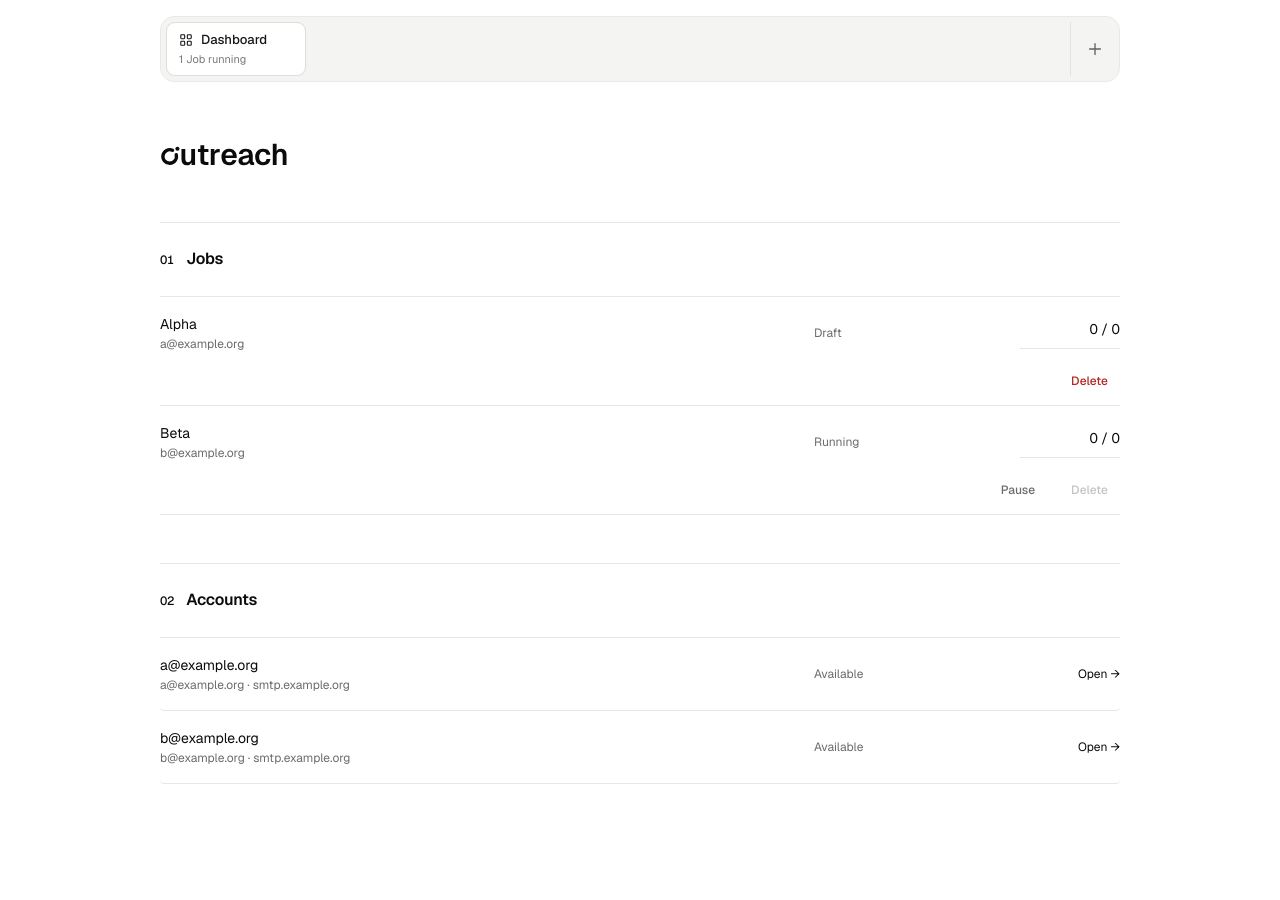
Test case: workspace › blocks running-job deletion and keeps a job when deletion fails
Expected: the button with aria-label "Delete job: Beta" is disabled, [1059,474,1120,506]
What coordinates should you click on to do the following:
click the button with aria-label "Delete job: Alpha"
I would click on:
 (1090, 381)
Its box is [1059,365,1120,397].
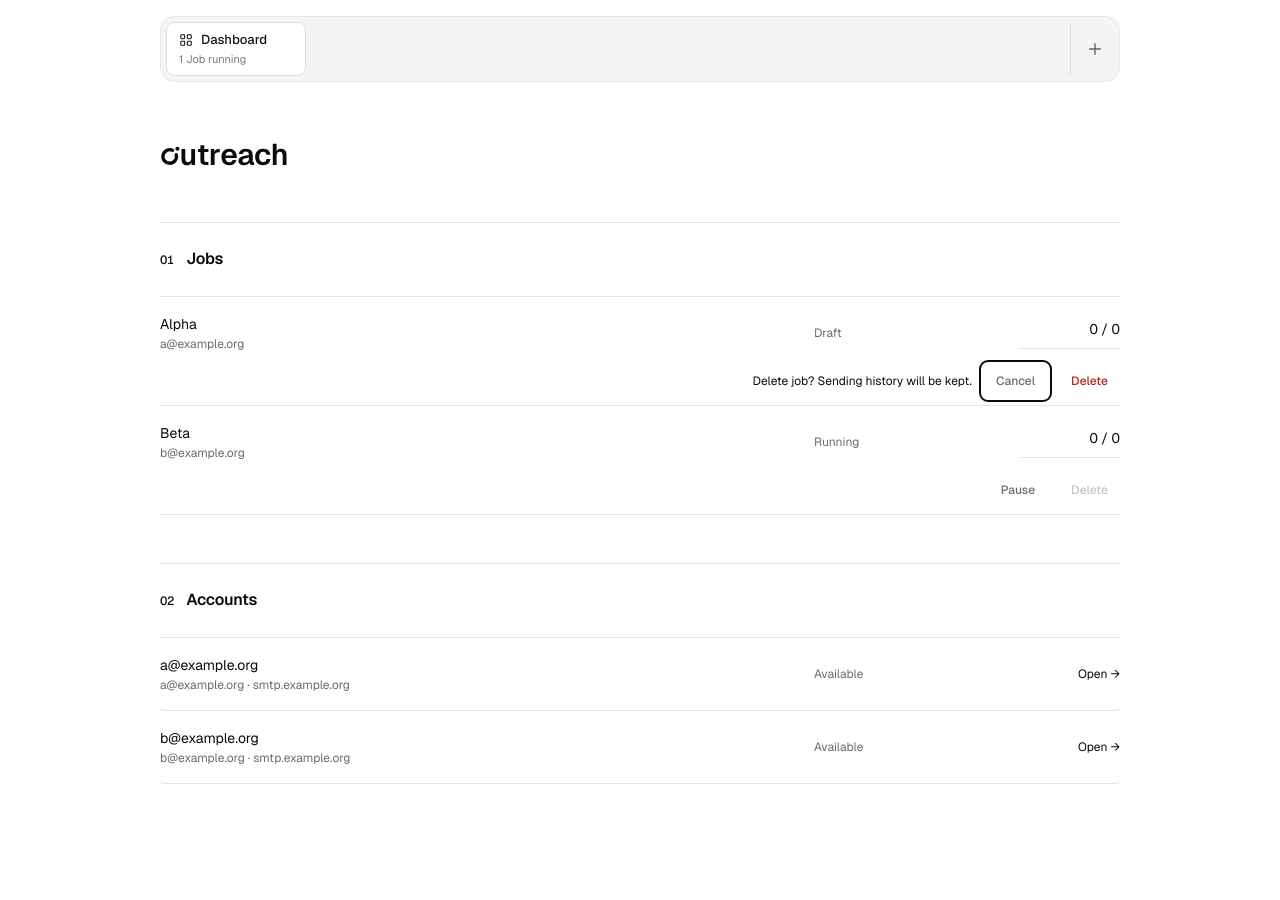
What coordinates should you click on to do the following:
click the button with aria-label "Confirm deletion: Alpha"
I would click on:
 (1090, 381)
Its box is [1059,365,1120,397].
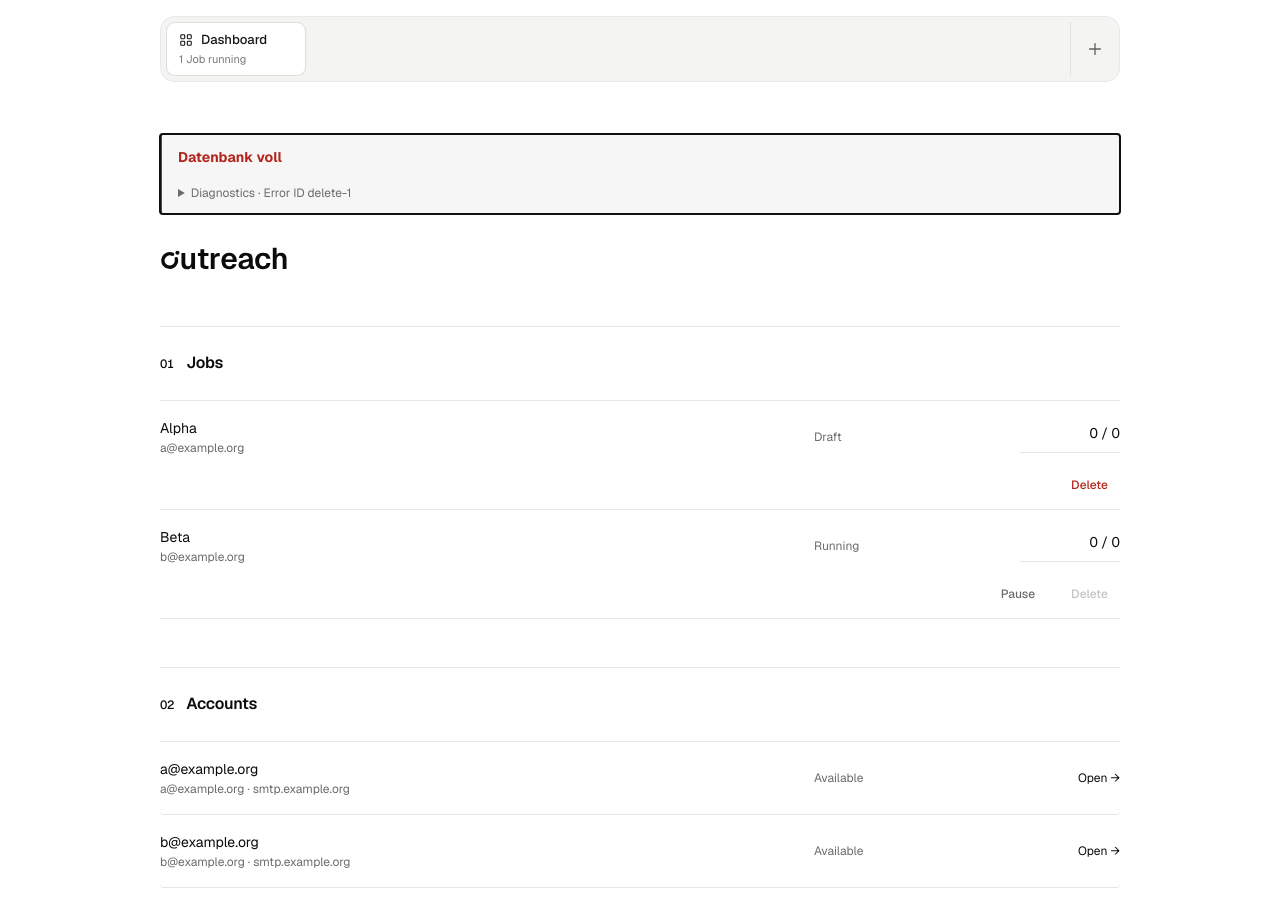
Expected: the button "Alpha a@example.org Draft 0 / 0" is shown, [160,401,1120,473]
Expected: the message shows "Datenbank voll", [178,148,282,166]
